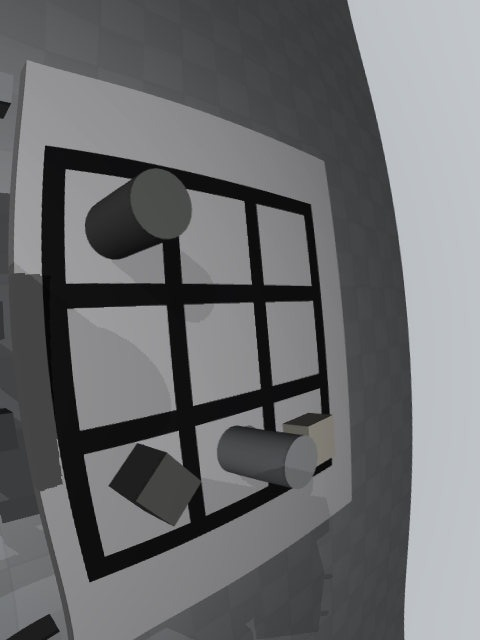can: (217, 426, 318, 489)
cube: (109, 443, 201, 526)
cylinder: (85, 168, 192, 260)
foam: (283, 413, 336, 466)
